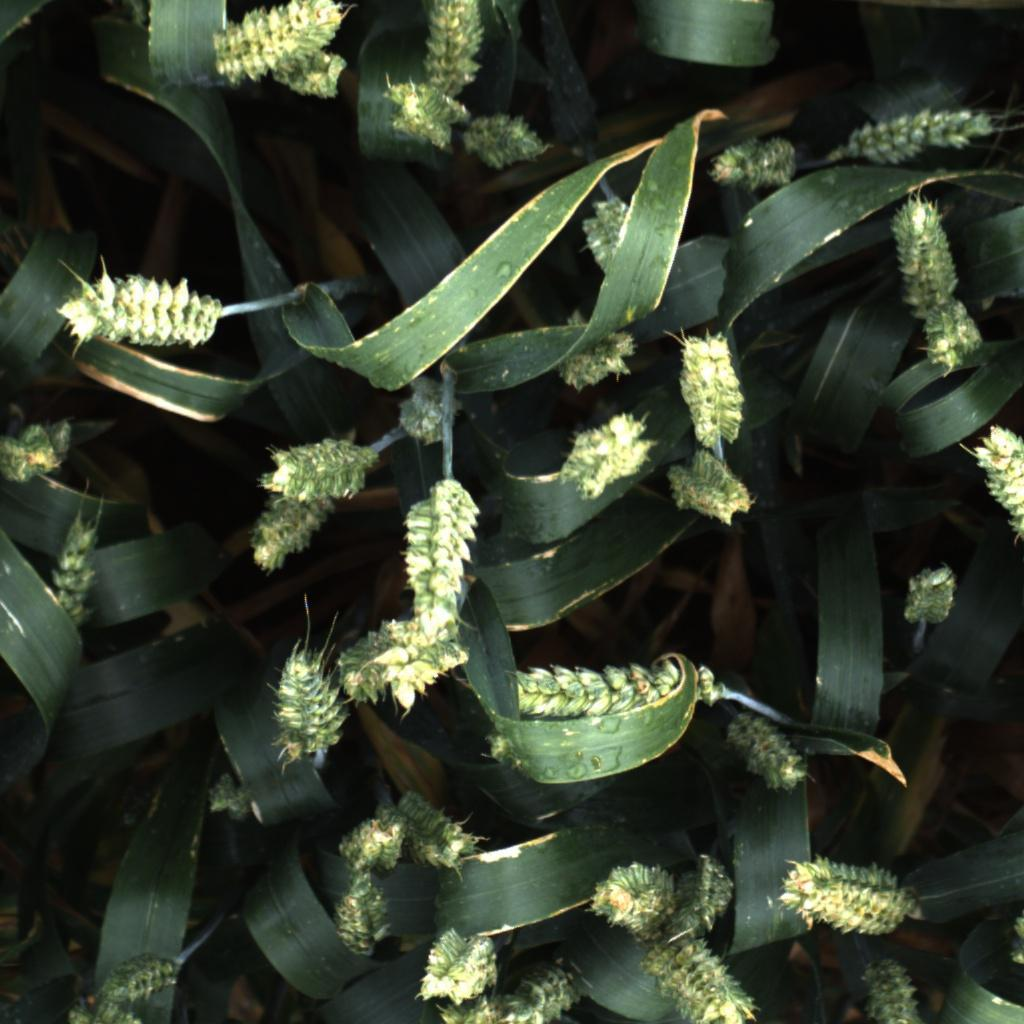0-0: (509, 640, 715, 720), (56, 267, 225, 354), (402, 475, 484, 632), (771, 853, 917, 938), (206, 0, 344, 89), (849, 92, 991, 171), (265, 639, 352, 760), (639, 939, 758, 1024), (670, 326, 751, 445), (256, 430, 381, 506), (555, 408, 652, 503), (379, 626, 477, 718), (880, 195, 963, 302), (583, 856, 677, 941), (439, 966, 576, 1023), (721, 706, 809, 794), (412, 924, 501, 1007), (667, 450, 760, 529), (969, 422, 1024, 553), (419, 0, 488, 99), (332, 620, 411, 706), (245, 502, 334, 577), (44, 511, 104, 618), (395, 792, 478, 869), (389, 372, 471, 449), (381, 78, 464, 152), (707, 132, 802, 196), (464, 107, 557, 170), (555, 324, 637, 395), (335, 871, 395, 966), (0, 413, 75, 489), (332, 804, 412, 874), (670, 857, 736, 940), (895, 557, 964, 630), (860, 960, 936, 1024), (919, 303, 991, 368), (581, 191, 637, 272), (197, 763, 265, 829), (102, 948, 183, 1003), (279, 44, 345, 110), (64, 997, 149, 1024)
